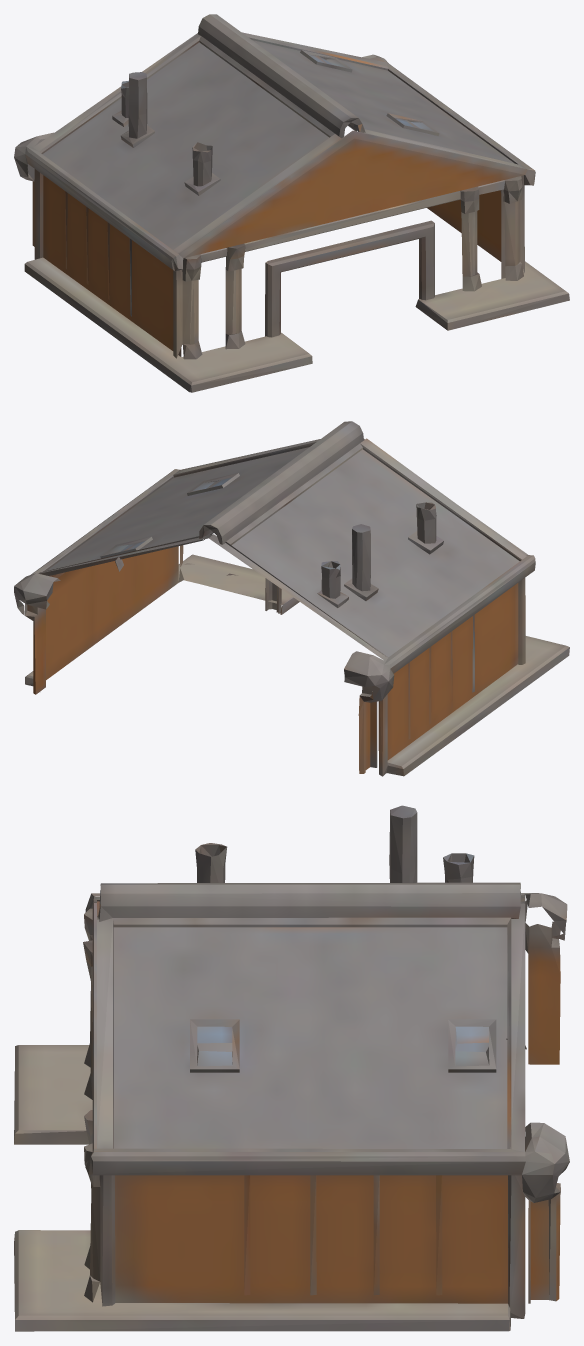
Rendered from 火车厂房.glb.
3 renders of one model, top to bottom at view 1: azimuth 30°, elevation 25°; view 2: azimuth 150°, elevation 25°; view 3: azimuth 270°, elevation 25°, orthographic. The views are drawn at different scales.
Parts seen in each view (by area): view 1: 火车厂房_new; view 2: 火车厂房_new; view 3: 火车厂房_new.
Part boxes in pixels (box(x1,y1,x2,y2)): 火车厂房_new: box(14, 14, 569, 392); 火车厂房_new: box(14, 421, 569, 776); 火车厂房_new: box(14, 805, 569, 1331).
Size of the model in its own units: 0.0169 by 0.00886 by 0.0144.
1 material, 1 textured.
